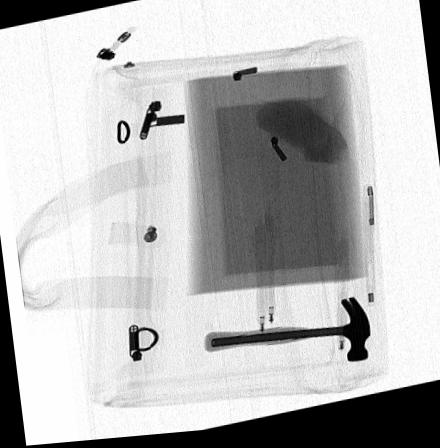Hammer: (202, 303, 369, 369)
